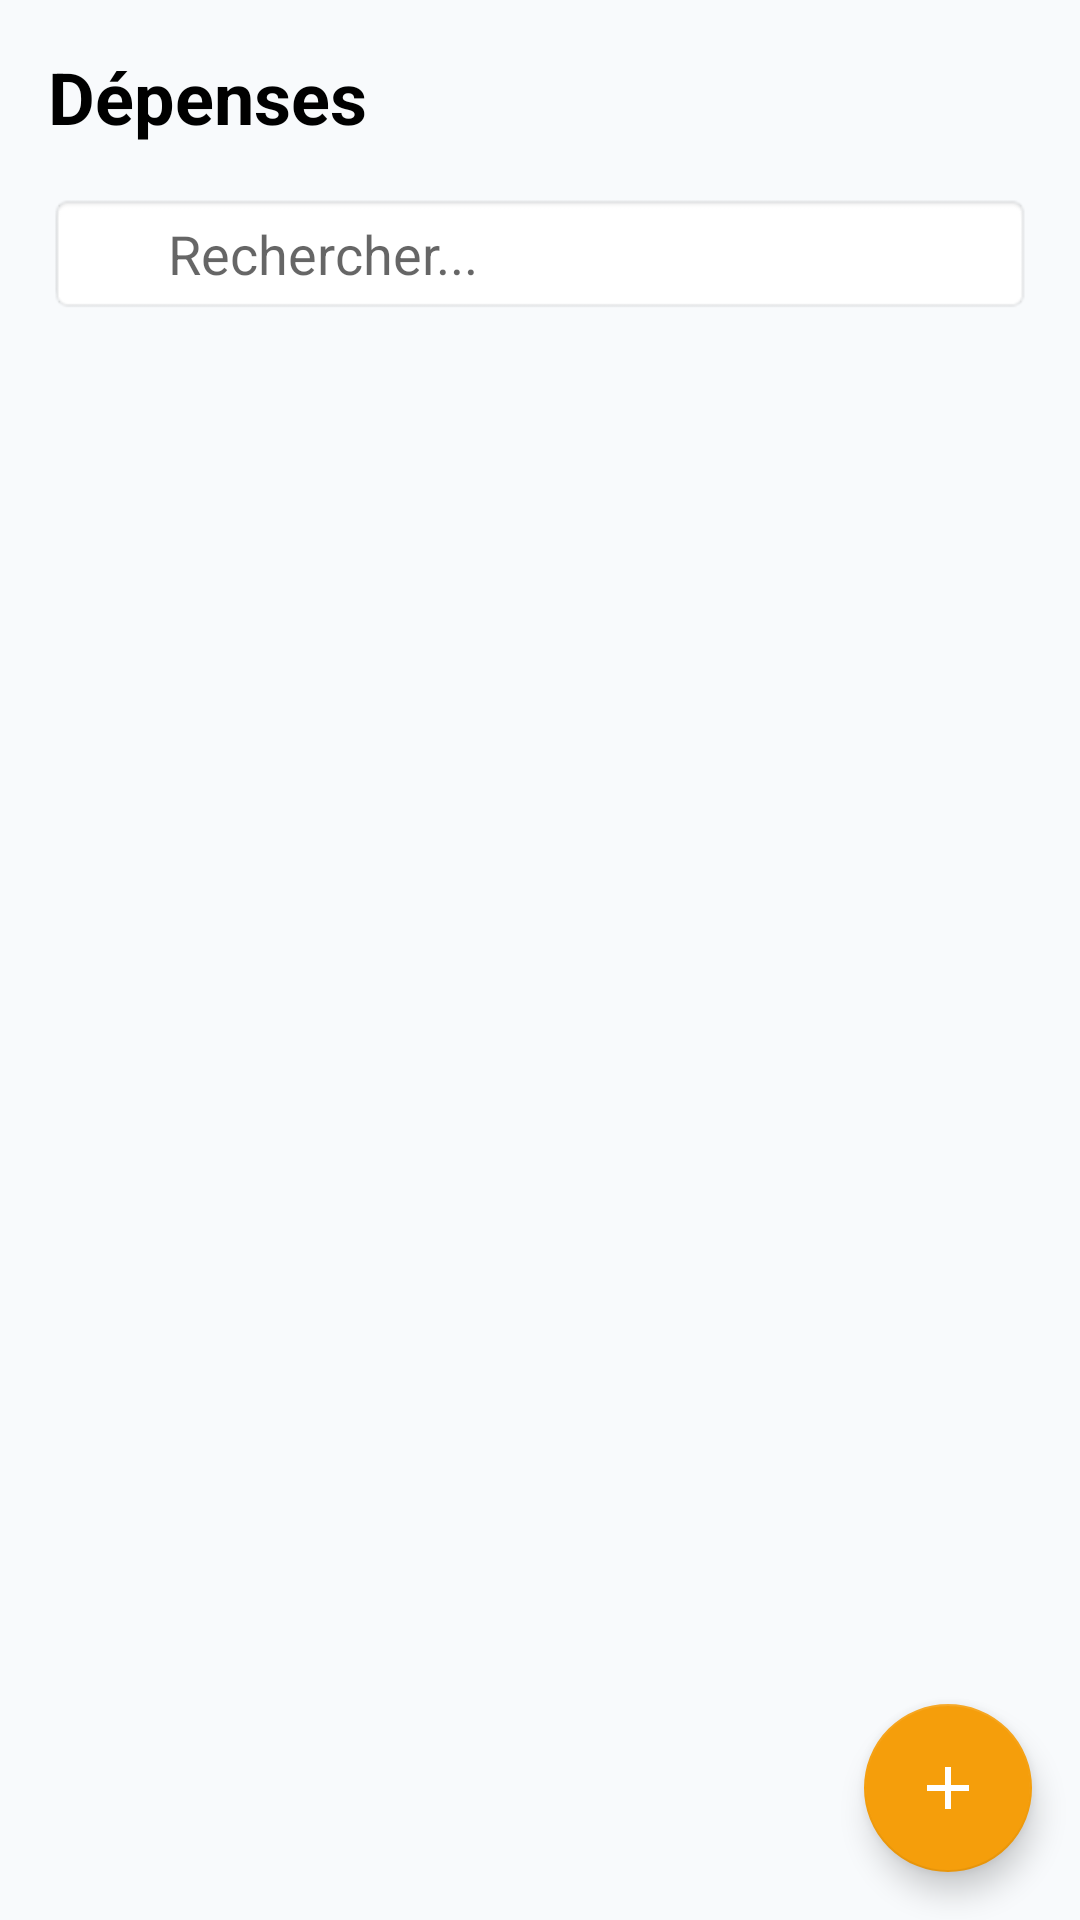

Where icons sit on this 1080 x 1920 app screen, as (x1, y1, x2, y2):
Ajouter dépense: (864, 1704, 1032, 1872)
